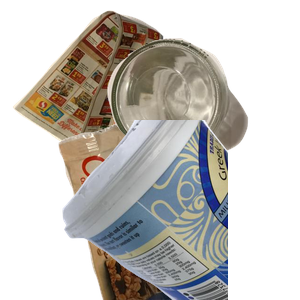glass: (105, 36, 300, 201)
paper: (10, 10, 217, 189)
plastic: (60, 120, 300, 300)
trash: (56, 120, 229, 300)
